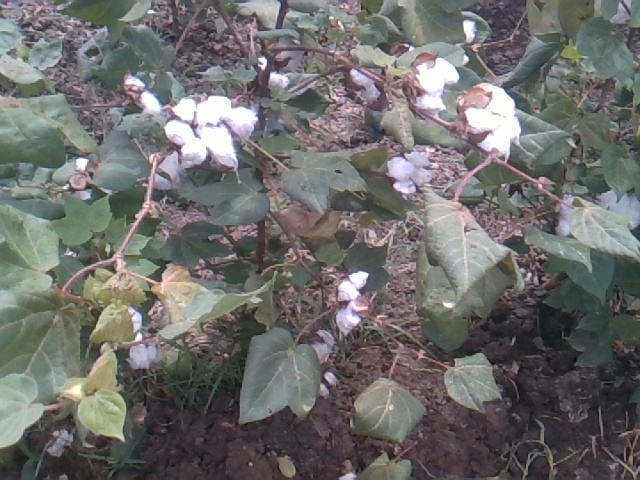cotton: (203, 95, 250, 168), (406, 57, 458, 115), (457, 84, 514, 132), (167, 101, 209, 166), (386, 149, 433, 195), (121, 72, 164, 117), (602, 190, 638, 232), (348, 62, 384, 102), (483, 121, 520, 159), (333, 271, 369, 301), (302, 333, 335, 364), (46, 430, 74, 456), (128, 346, 152, 371)
